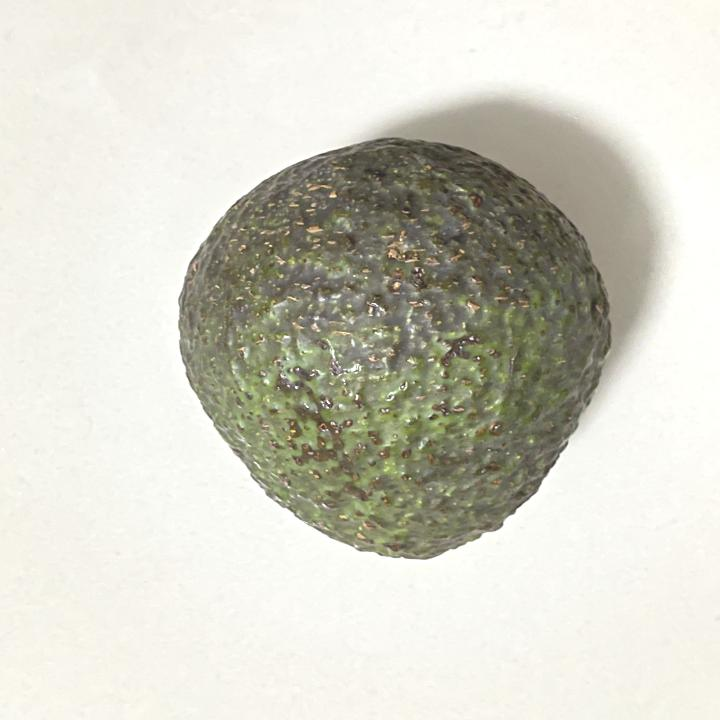Level1: (159, 127, 632, 577)
